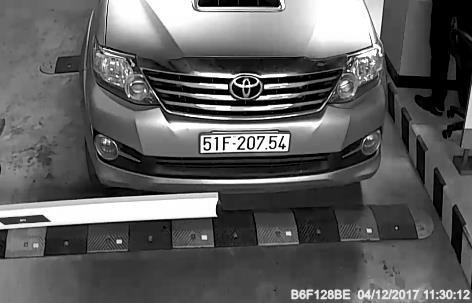License-plate: (191, 122, 309, 170)
